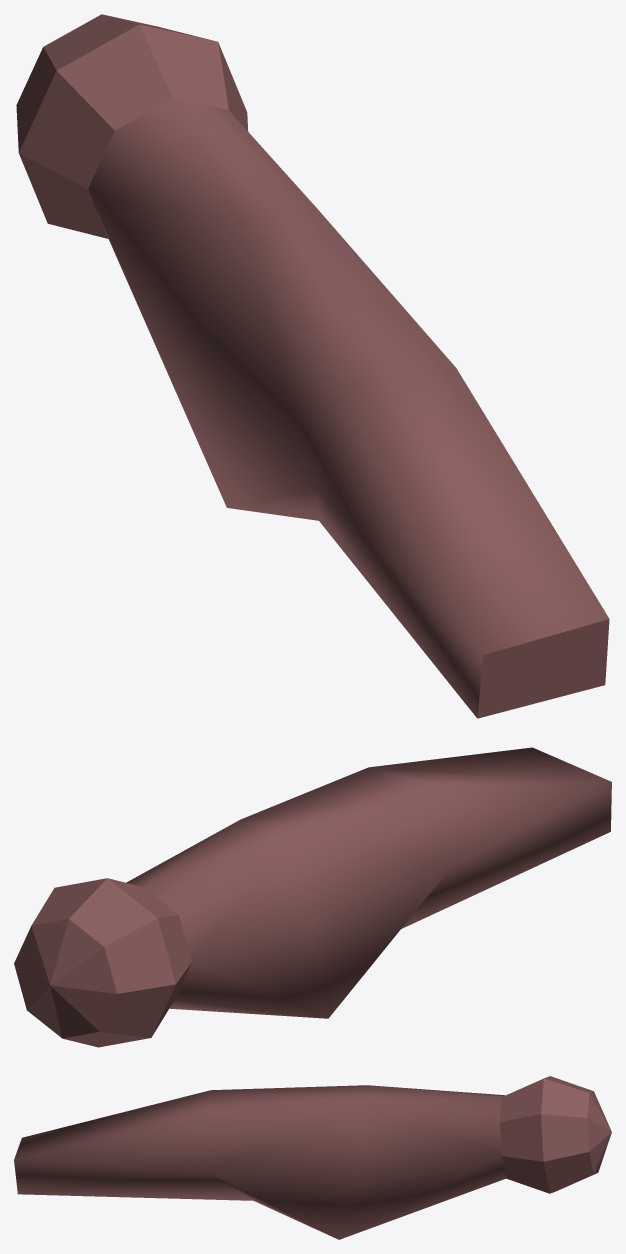
3 renders of one model, top to bottom at view 1: azimuth 30°, elevation 25°; view 2: azimuth 150°, elevation 25°; view 3: azimuth 270°, elevation 25°, orthographic. The views are drawn at different scales.
Parts seen in each view (by area): view 1: Mesh_017; view 2: Mesh_017; view 3: Mesh_017.
Part boxes in pixels (bbox=[...]): Mesh_017: bbox=[16, 14, 609, 718]; Mesh_017: bbox=[14, 747, 611, 1047]; Mesh_017: bbox=[14, 1076, 611, 1239].
Bounding box in the file's own units: 1.24 × 4.47 × 1.29.
